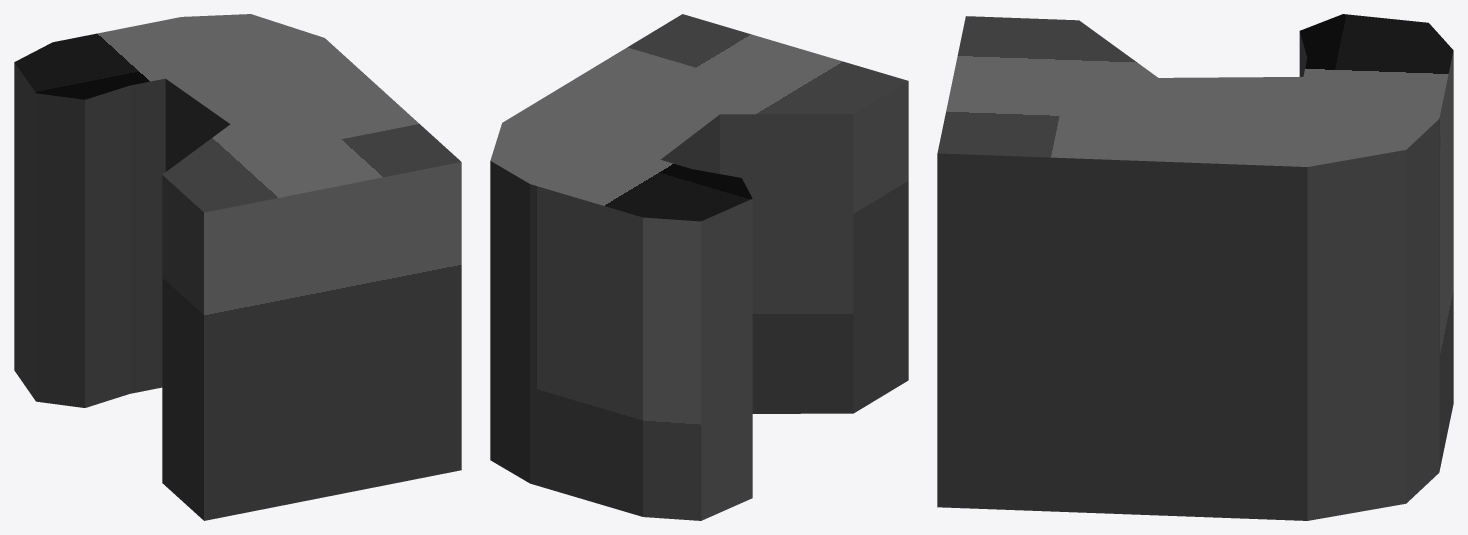
File: knuckle.obj
3 renders of one model, left to right at view 1: azimuth 30°, elevation 25°; view 2: azimuth 150°, elevation 25°; view 3: azimuth 270°, elevation 25°, orthographic. The views are drawn at different scales.
Visible parts, largest first — view 1: 钩舌_8abb96ea-6121-227e-c6fa-b8ff8e4ed580; view 2: 钩舌_8abb96ea-6121-227e-c6fa-b8ff8e4ed580; view 3: 钩舌_8abb96ea-6121-227e-c6fa-b8ff8e4ed580.
Part boxes in pixels (<box>): 钩舌_8abb96ea-6121-227e-c6fa-b8ff8e4ed580: <box>14,14,461,520</box>; 钩舌_8abb96ea-6121-227e-c6fa-b8ff8e4ed580: <box>490,14,908,520</box>; 钩舌_8abb96ea-6121-227e-c6fa-b8ff8e4ed580: <box>937,14,1453,520</box>.
Size of the model in its own units: 0.171 by 0.1843 by 0.2436.
